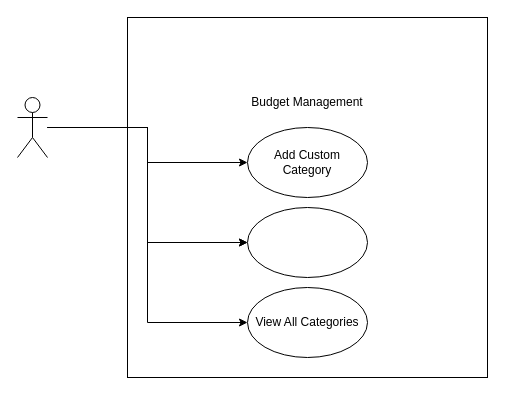
This 505x395 diagram has some shape labels left out. Each missing label, with the centre of its shape:
"Save Budget Limit" belongs at (307,242).
"User" belongs at (32,127).
